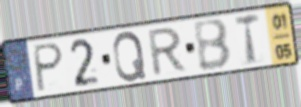2: (68, 37, 101, 89)
B: (191, 17, 233, 73)
P: (33, 41, 66, 95)
Q: (111, 29, 149, 84)
R: (147, 25, 189, 79)
T: (233, 11, 262, 67)
